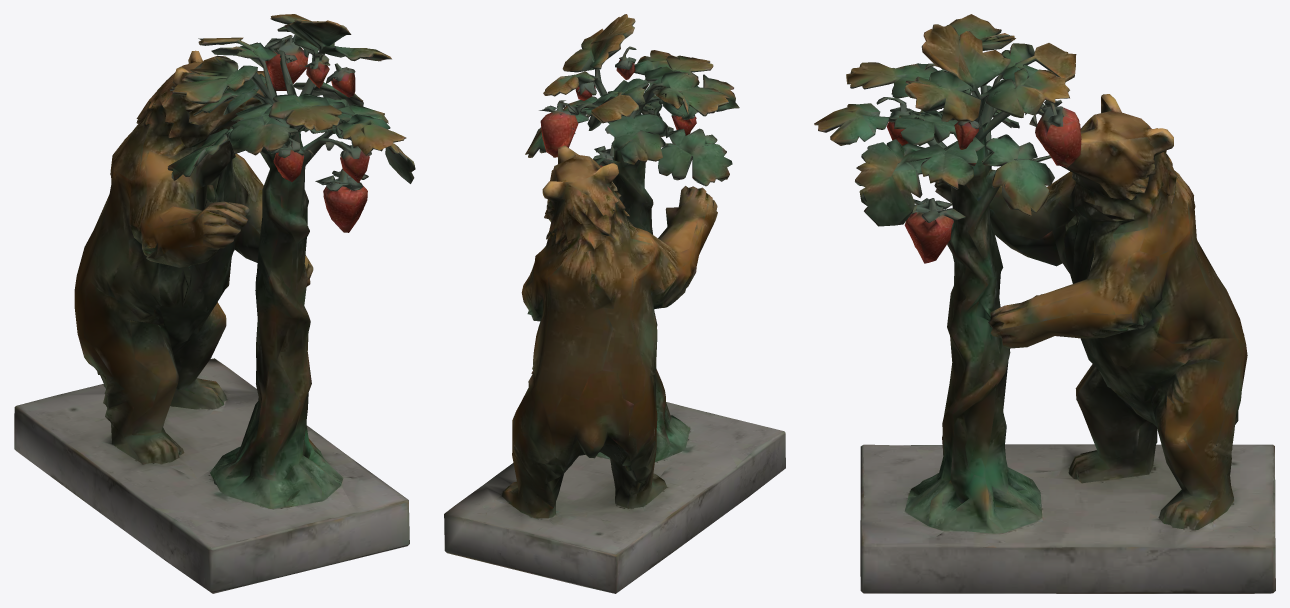
File: madrid-oso.glb
3 renders of one model, left to right at view 1: azimuth 30°, elevation 25°; view 2: azimuth 150°, elevation 25°; view 3: azimuth 270°, elevation 25°, orthographic. The views are drawn at different scales.
Visible parts, largest first — view 1: geometry_0; view 2: geometry_0; view 3: geometry_0.
Boxes of the visible parts, x1=… form: geometry_0: x1=14, y1=14, x2=415, y2=593; geometry_0: x1=444, y1=14, x2=785, y2=593; geometry_0: x1=814, y1=14, x2=1275, y2=593.
Bounding box in the file's own units: 0.4536 × 1 × 0.7735.
1 material, 1 textured.
